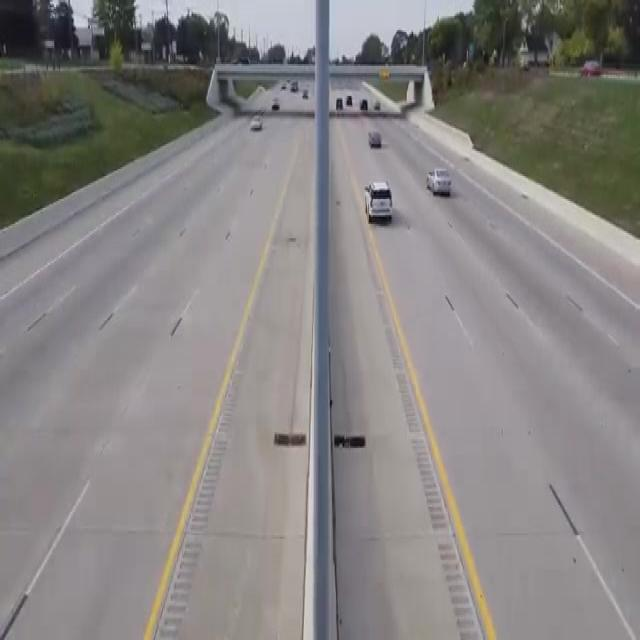car: (359, 182, 397, 229), (425, 165, 458, 202), (361, 120, 387, 160), (240, 116, 274, 138), (332, 91, 349, 118), (345, 84, 359, 108), (272, 98, 288, 118), (359, 92, 372, 110), (375, 100, 386, 110)
